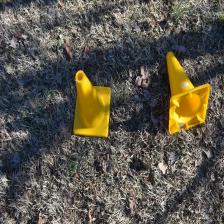cone: (166, 50, 210, 135), (72, 70, 111, 138)
